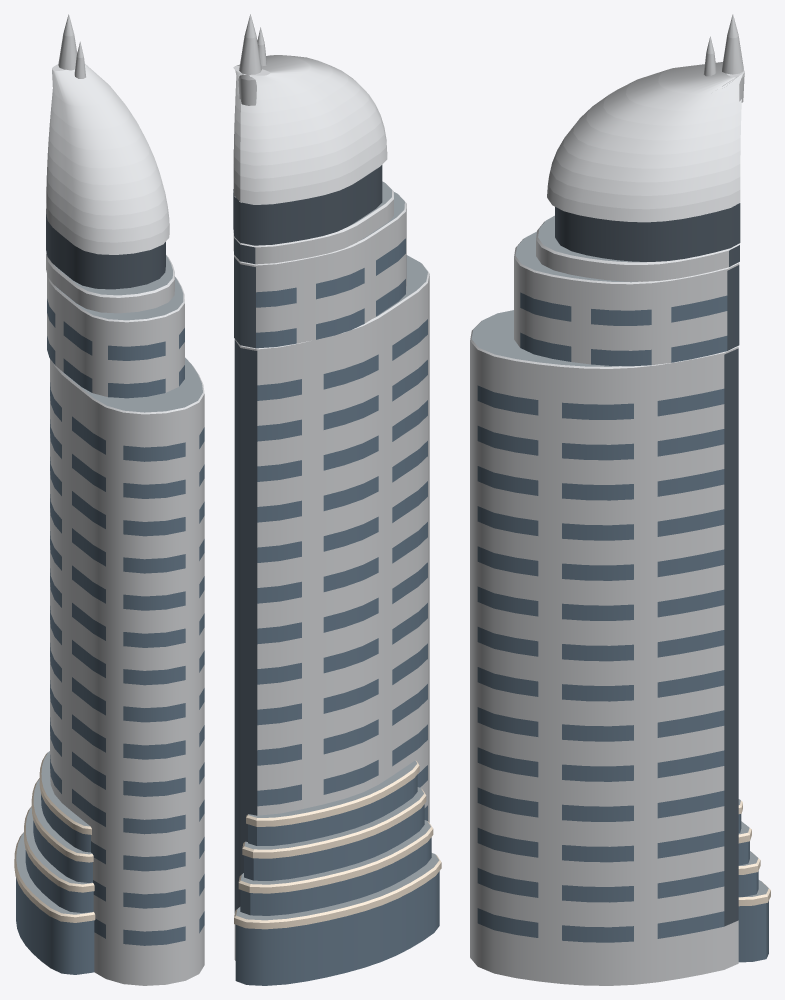
File: dubai-address-downtown.glb
3 renders of one model, left to right at view 1: azimuth 30°, elevation 25°; view 2: azimuth 150°, elevation 25°; view 3: azimuth 270°, elevation 25°, orthographic. The views are drawn at different scales.
Visible parts, largest first — view 1: The Address Downtown; view 2: The Address Downtown; view 3: The Address Downtown.
Part boxes in pixels (x1,y1,x2,y2): The Address Downtown: [14, 14, 204, 985]; The Address Downtown: [233, 14, 441, 985]; The Address Downtown: [470, 14, 770, 985].
Bounding box in the file's own units: 52.5 × 306 × 88.19.
